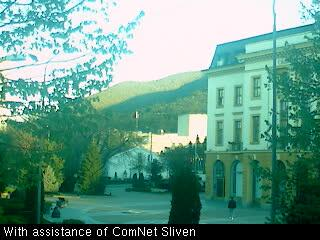person: (227, 196, 236, 220)
